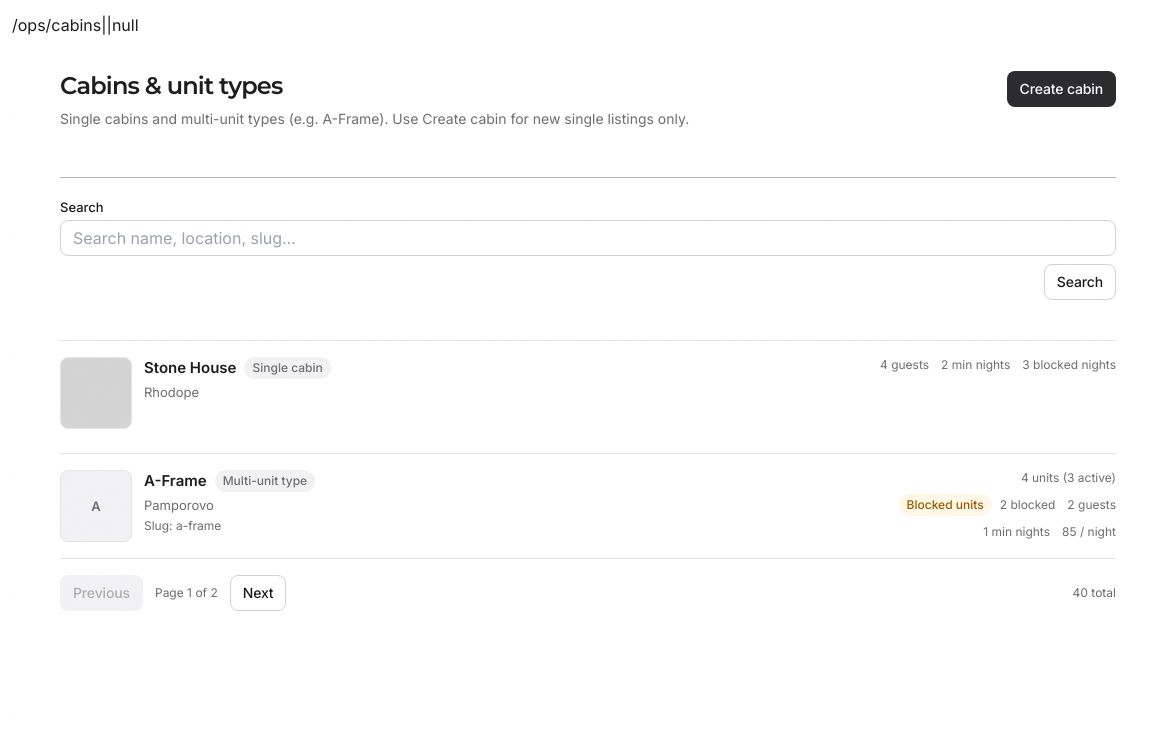
it: OpsCabinsList collection migration › keeps existing rows when a later load fails
Expected: the text "Stone House" is shown, left=144, top=358, right=236, bottom=378
Click the button "Next".
click(258, 593)  # box left=230, top=575, right=286, bottom=611
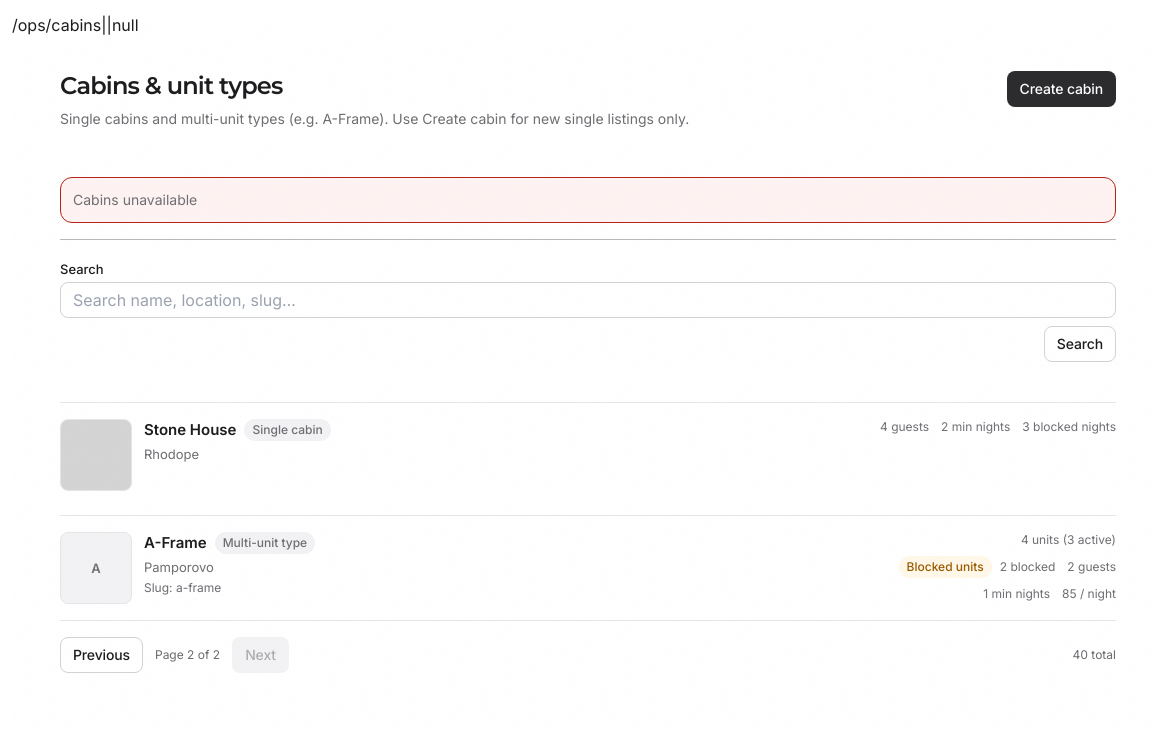
Expected: the text "Stone House" is shown, left=144, top=420, right=236, bottom=440
Result: the text "Cabins unavailable" is shown at left=73, top=191, right=197, bottom=208
